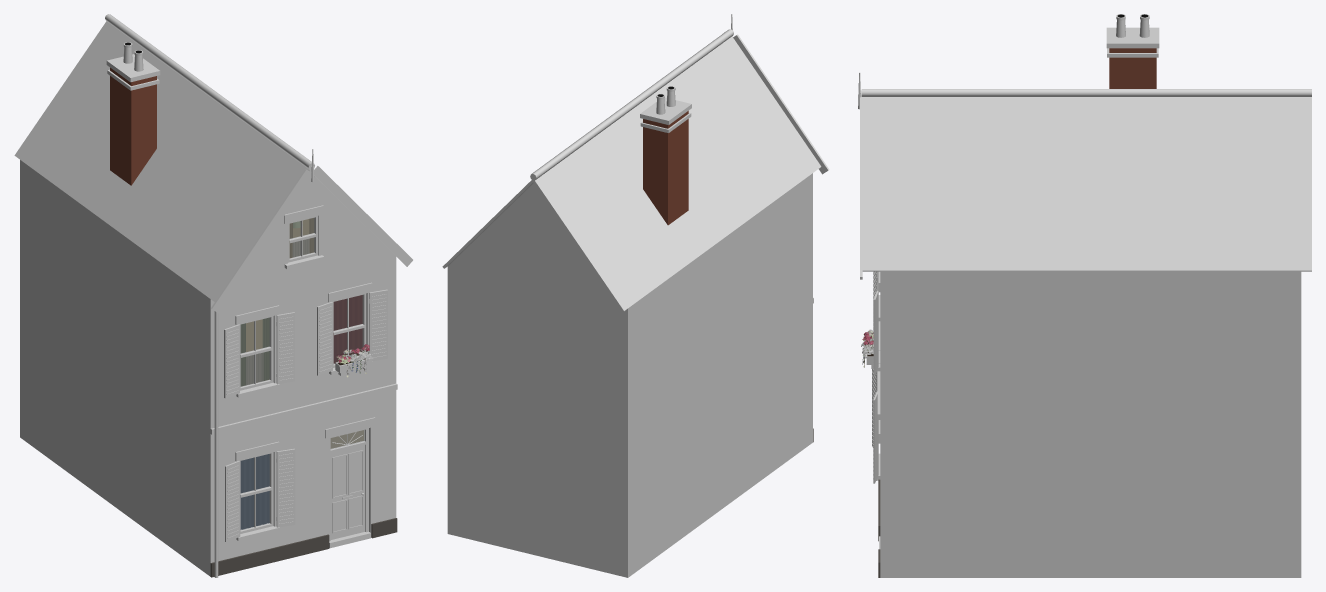
The model's file is Opposite_Opposite2_5.glb.
3 views of the same model, side by side, from view 1: azimuth 30°, elevation 25°; view 2: azimuth 150°, elevation 25°; view 3: azimuth 270°, elevation 25° (orthographic). The views are drawn at different scales.
Parts seen in each view (by area): view 1: Opposite_Opposite2_5; view 2: Opposite_Opposite2_5; view 3: Opposite_Opposite2_5.
Part boxes in pixels (x1,y1,x2,y2): Opposite_Opposite2_5: [14, 14, 412, 577]; Opposite_Opposite2_5: [442, 14, 829, 577]; Opposite_Opposite2_5: [858, 14, 1311, 577].
Bounding box in the file's own units: 4.88 × 10.1 × 8.62.
